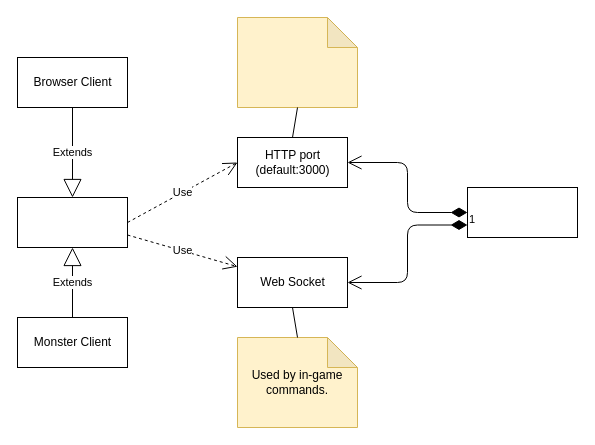
Some shapes in this 595 by 445 pixel diagram are drawn without their labels. The centre of each missing label's shape, as x and y in pixels:
"Client" belongs at (72,222).
"RogueLike server" belongs at (522,212).
"Used by the REST API" belongs at (297,62).
